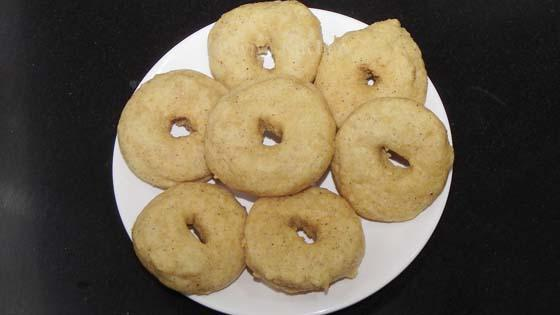mvada: (206, 23, 381, 238)
